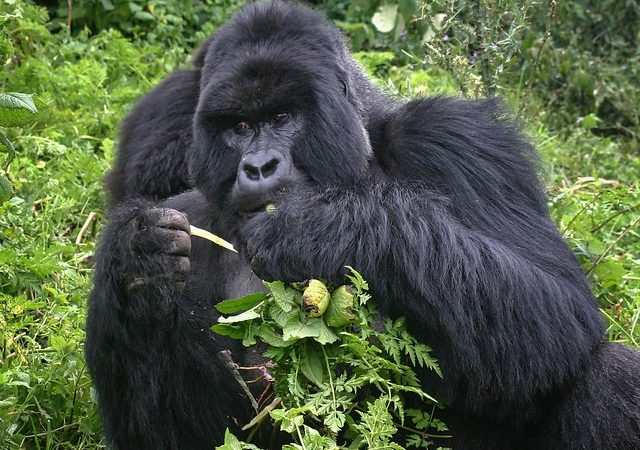Gorilla: (129, 6, 603, 440)
